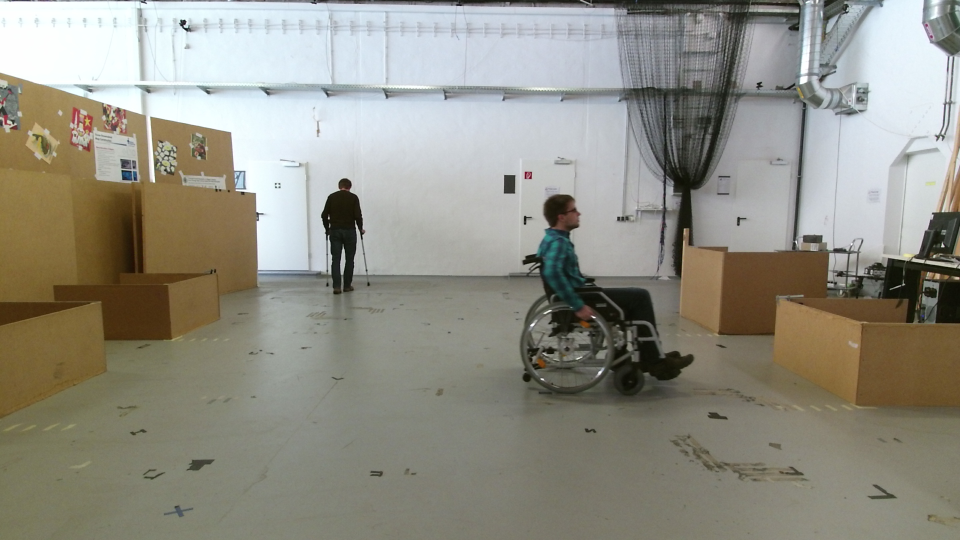crutches: (316, 172, 378, 299)
wheelchair: (518, 191, 702, 409)
